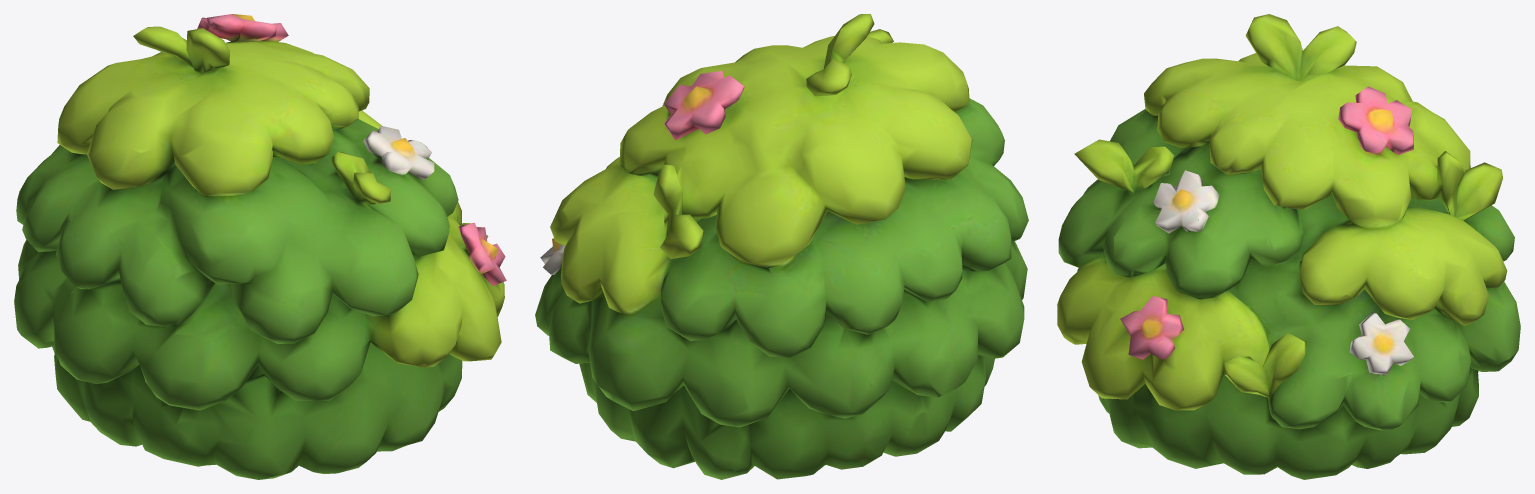
The model's file is prop_bush.glb.
3 views of the same model, side by side, from view 1: azimuth 30°, elevation 25°; view 2: azimuth 150°, elevation 25°; view 3: azimuth 270°, elevation 25° (orthographic). The views are drawn at different scales.
Visible parts, largest first — view 1: tripo_node_ea8e4998-770b-4e9c-a424-828ade1b9e14; view 2: tripo_node_ea8e4998-770b-4e9c-a424-828ade1b9e14; view 3: tripo_node_ea8e4998-770b-4e9c-a424-828ade1b9e14.
Boxes of the visible parts, left/top/right/bottom form: tripo_node_ea8e4998-770b-4e9c-a424-828ade1b9e14: left=14, top=14, right=506, bottom=479; tripo_node_ea8e4998-770b-4e9c-a424-828ade1b9e14: left=535, top=14, right=1028, bottom=479; tripo_node_ea8e4998-770b-4e9c-a424-828ade1b9e14: left=1057, top=14, right=1520, bottom=479.
Size of the model in its own units: 0.9644 by 0.8959 by 1.
Materials: 1 (1 with a texture image).
